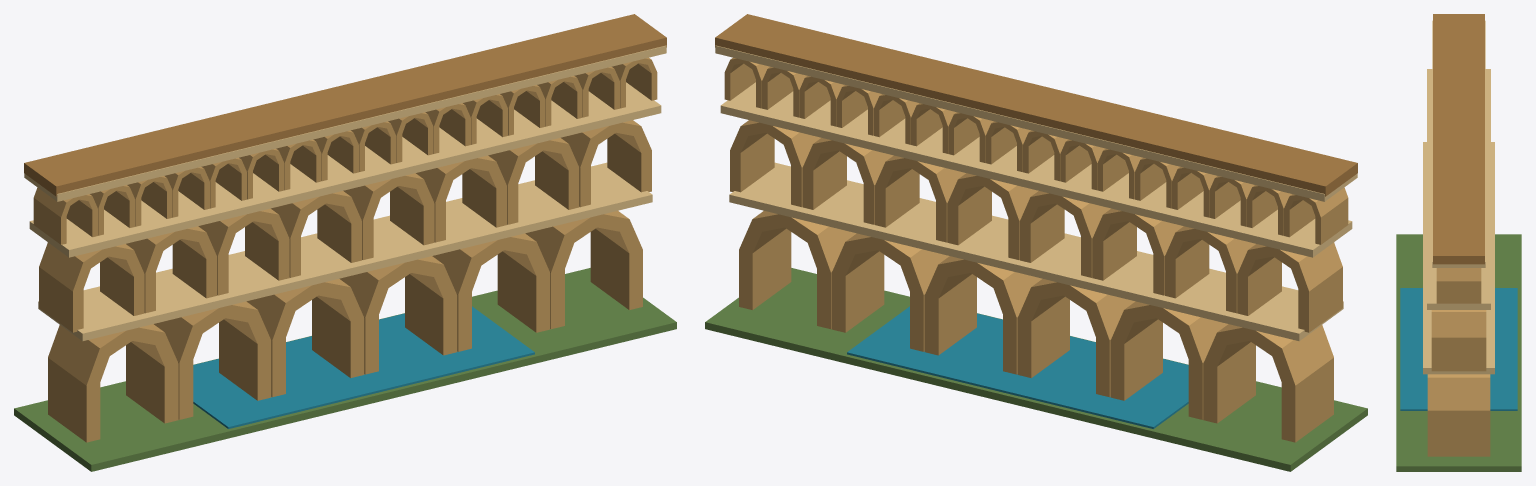
The model's file is pont-du-gard.glb.
The picture shows the model from 3 angles, left to right: view 1: azimuth 30°, elevation 25°; view 2: azimuth 150°, elevation 25°; view 3: azimuth 270°, elevation 25°; orthographic projection. The views are drawn at different scales.
Visible parts, largest first — view 1: body_CBB182, body_DBC396, roof_B5A078, base, river_598D97; view 2: body_CBB182, body_DBC396, roof_B5A078, base, river_598D97; view 3: roof_B5A078, body_CBB182, base, body_DBC396, river_598D97.
Part boxes in pixels (box(x1,y1,x2,y2)): body_CBB182: box(33, 57, 657, 442); body_DBC396: box(24, 45, 666, 341); roof_B5A078: box(24, 14, 666, 196); base: box(14, 268, 676, 471); river_598D97: box(193, 306, 534, 428); body_CBB182: box(724, 57, 1348, 442); body_DBC396: box(715, 45, 1357, 341); roof_B5A078: box(715, 14, 1357, 196); base: box(705, 268, 1367, 471); river_598D97: box(847, 306, 1188, 428); roof_B5A078: box(1433, 14, 1484, 264); body_CBB182: box(1427, 268, 1490, 456); base: box(1396, 234, 1521, 471); body_DBC396: box(1423, 20, 1494, 374); river_598D97: box(1400, 288, 1517, 410).
Size of the model in its own units: 1 by 0.4258 by 0.2192.
